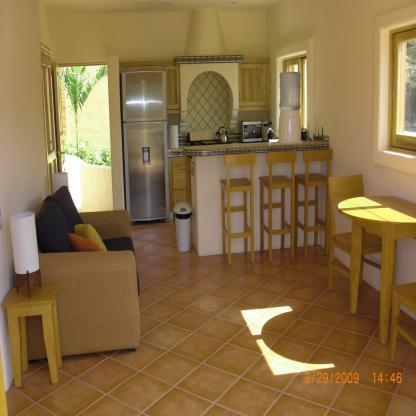door: (54, 61, 68, 172)
lever: (62, 150, 66, 155)
